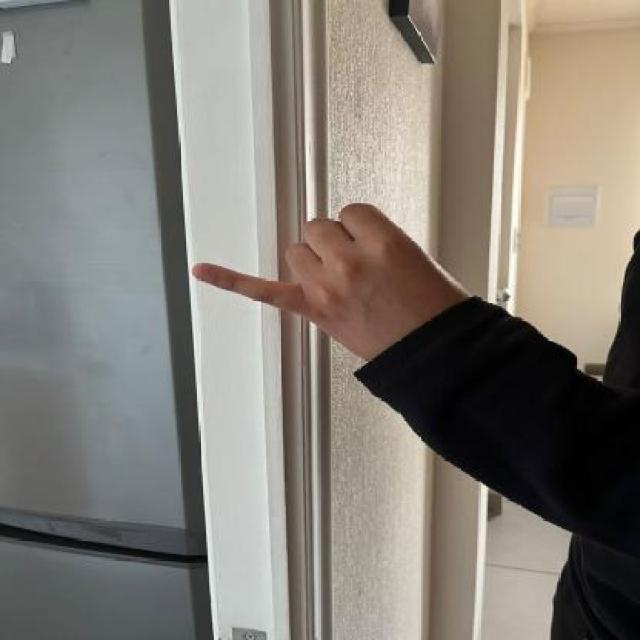J: (188, 198, 469, 360)
